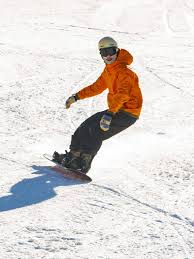snowboarder: (43, 37, 144, 184)
